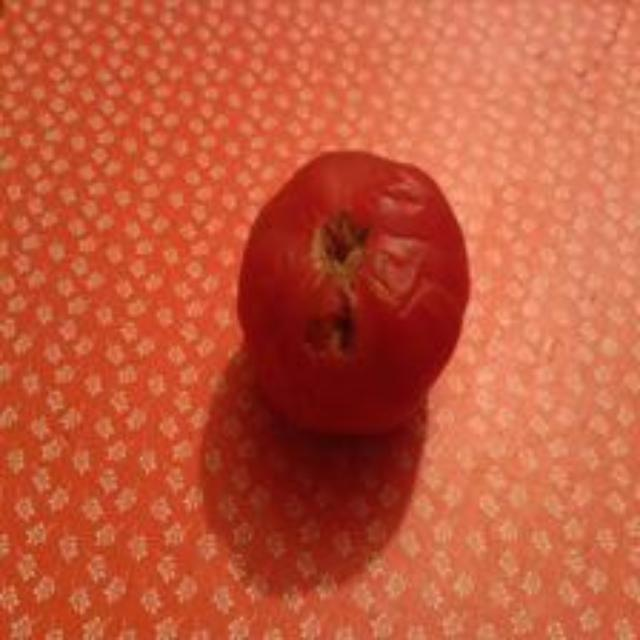defect: (237, 149, 474, 436)
